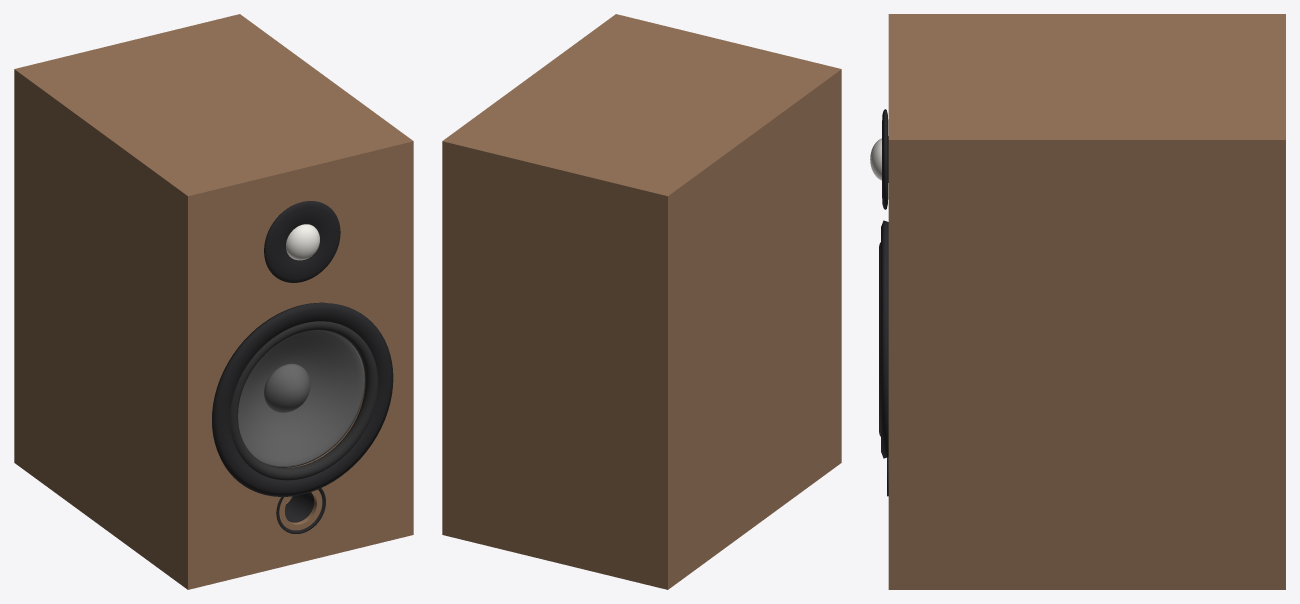
File: monitor-high.glb
3 renders of one model, left to right at view 1: azimuth 30°, elevation 25°; view 2: azimuth 150°, elevation 25°; view 3: azimuth 270°, elevation 25°, orthographic. The views are drawn at different scales.
Parts seen in each view (by area): view 1: cabinet, woofer_cone, woofer_frame, woofer_surround, tweeter_plate, dust_cap, port, tweeter_dome; view 2: cabinet; view 3: cabinet, woofer_frame, tweeter_plate.
Part boxes in pixels (x1,y1,x2,y2): cabinet: (14, 14, 413, 589); woofer_cone: (238, 330, 364, 467); woofer_frame: (212, 302, 393, 496); woofer_surround: (230, 321, 378, 480); tweeter_plate: (264, 201, 340, 282); dust_cap: (264, 363, 310, 412); port: (276, 488, 325, 533); tweeter_dome: (286, 224, 319, 260); cabinet: (442, 14, 841, 589); cabinet: (888, 14, 1285, 589); woofer_frame: (881, 220, 888, 458); tweeter_plate: (882, 109, 888, 209).
Size of the model in its own units: 0.18 by 0.304 by 0.2511.
